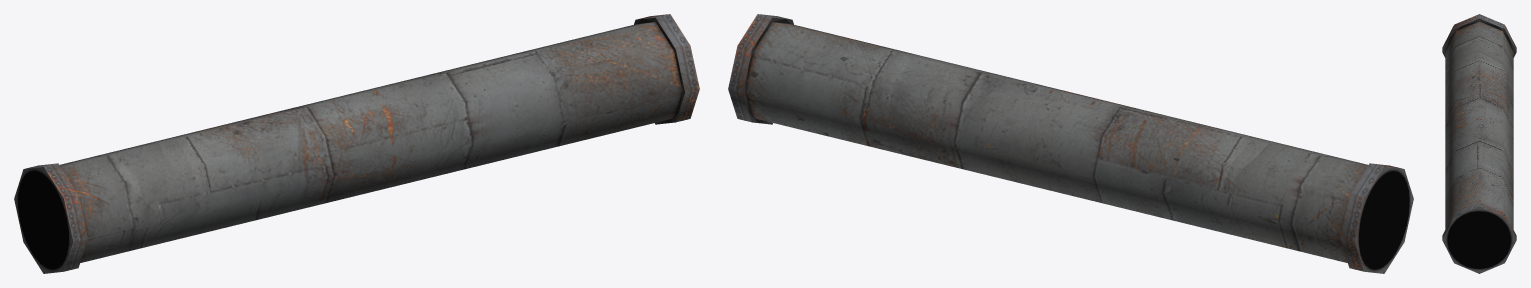
Rendered from Truba001.FBX.
3 views of the same model, side by side, from view 1: azimuth 30°, elevation 25°; view 2: azimuth 150°, elevation 25°; view 3: azimuth 270°, elevation 25° (orthographic). The views are drawn at different scales.
Parts seen in each view (by area): view 1: polySurface91; view 2: polySurface91; view 3: polySurface91.
Part boxes in pixels (x1,y1,x2,y2): polySurface91: (14, 14, 699, 273); polySurface91: (728, 14, 1413, 273); polySurface91: (1442, 14, 1516, 273).
Bounding box in the file's own units: 3.15 × 0.5143 × 0.5143.
